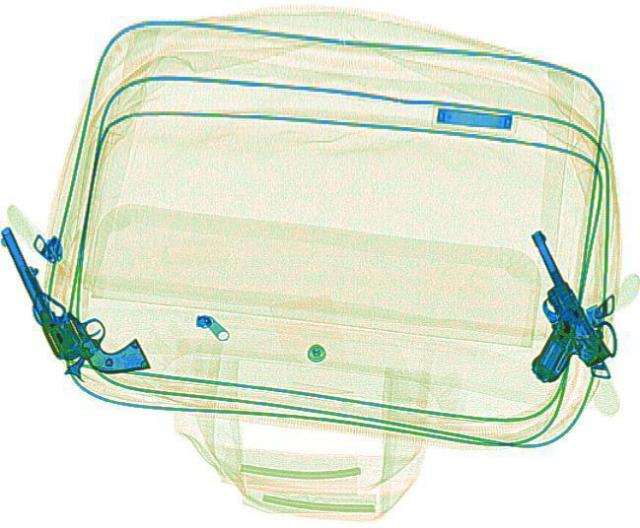Gun: (0, 209, 149, 385), (465, 226, 615, 384)
